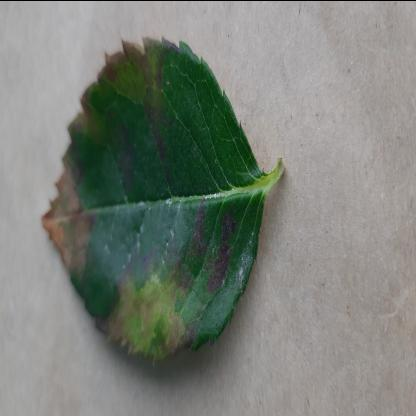downy-mildew: (39, 33, 265, 368)
